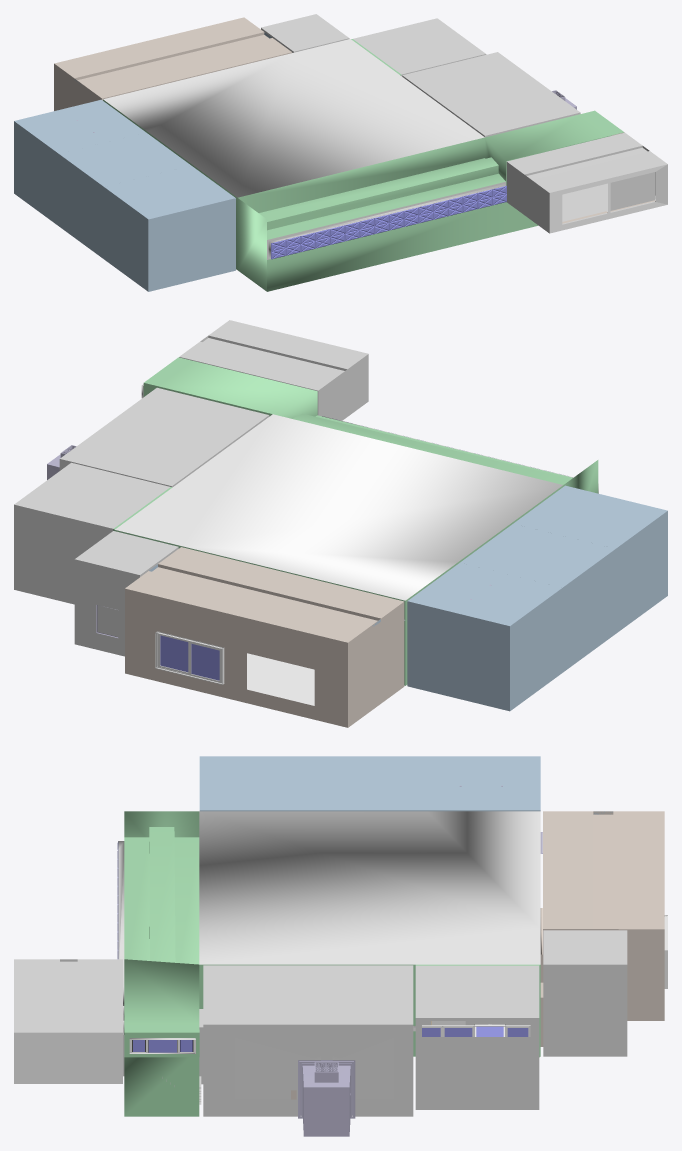
File: OfficeFloor.fbx
3 views of the same model, one above another, from view 1: azimuth 30°, elevation 25°; view 2: azimuth 150°, elevation 25°; view 3: azimuth 270°, elevation 25° (orthographic). The views are drawn at different scales.
Parts seen in each view (by area): view 1: Building, MosiacWindow, LargeBlindsCloth; view 2: Building, Window.L, Window.R, Sliding Window; view 3: Building, Elevator, AwningWindow, MosiacWindow, PanelWindow.
Boxes of the visible parts, <box> form: Building: <box>14,14,667,291</box>; MosiacWindow: <box>267,182,506,259</box>; LargeBlindsCloth: <box>610,172,655,210</box>; Building: <box>14,320,667,727</box>; Window.L: <box>188,641,221,683</box>; Window.R: <box>158,634,188,674</box>; Sliding Window: <box>155,631,224,684</box>; Building: <box>14,756,664,1116</box>; Elevator: <box>298,1060,355,1136</box>; AwningWindow: <box>422,1024,530,1036</box>; MosiacWindow: <box>117,841,124,1005</box>; PanelWindow: <box>129,1039,195,1053</box>.
Bounding box in the file's own units: 3712 × 576 × 3529.
